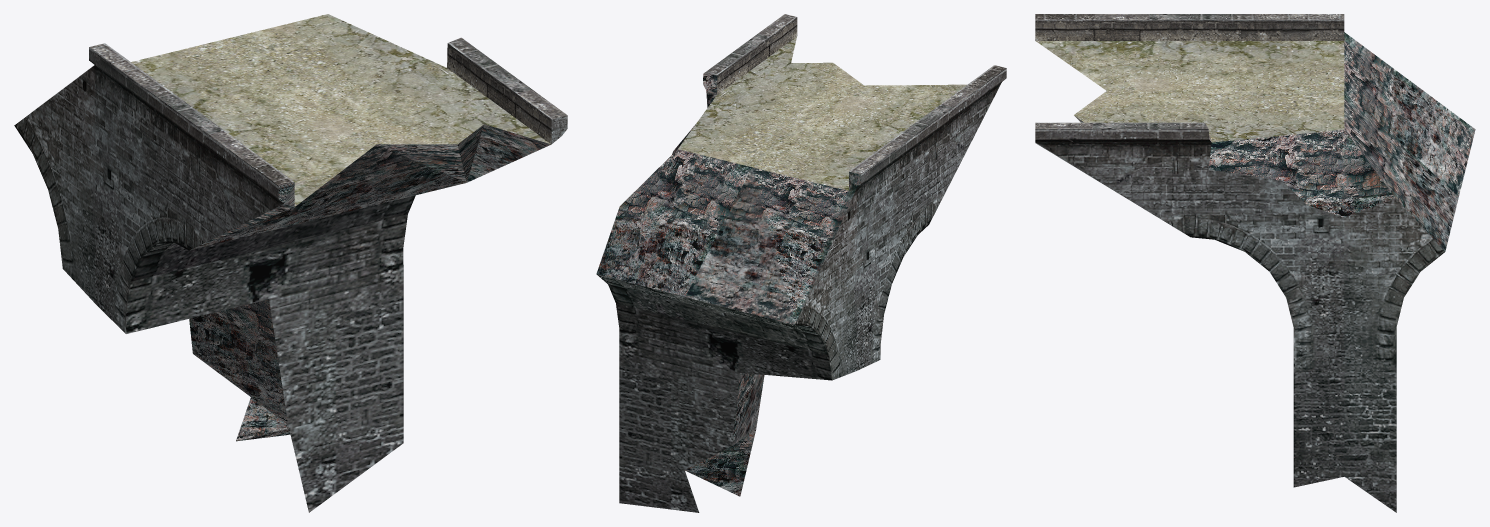
The model's file is BridgeTop4.fbx.
The picture shows the model from 3 angles, left to right: view 1: azimuth 30°, elevation 25°; view 2: azimuth 150°, elevation 25°; view 3: azimuth 270°, elevation 25°; orthographic projection. The views are drawn at different scales.
Parts seen in each view (by area): view 1: T01_trosky_05, T01_trosky_01, T01_trosky_03, T01_trosky_02, T01_trosky_04; view 2: T01_trosky_05, T01_trosky_01, T01_trosky_03, T01_trosky_04, T01_trosky_02; view 3: T01_trosky_01, T01_trosky_05, T01_trosky_03, T01_trosky_02, T01_trosky_04.
Boxes of the visible parts, <box> form: T01_trosky_05: <box>14,37,483,333</box>; T01_trosky_01: <box>231,14,567,299</box>; T01_trosky_03: <box>189,266,403,424</box>; T01_trosky_02: <box>288,364,403,512</box>; T01_trosky_04: <box>236,397,290,441</box>; T01_trosky_05: <box>685,62,1006,380</box>; T01_trosky_01: <box>596,14,797,372</box>; T01_trosky_03: <box>619,343,764,469</box>; T01_trosky_04: <box>619,440,699,512</box>; T01_trosky_02: <box>685,430,755,496</box>; T01_trosky_01: <box>1035,91,1458,342</box>; T01_trosky_05: <box>1035,14,1475,196</box>; T01_trosky_03: <box>1293,332,1396,476</box>; T01_trosky_02: <box>1293,420,1343,487</box>; T01_trosky_04: <box>1344,446,1396,512</box>.
Size of the model in its own units: 900 by 1455 by 1456.
